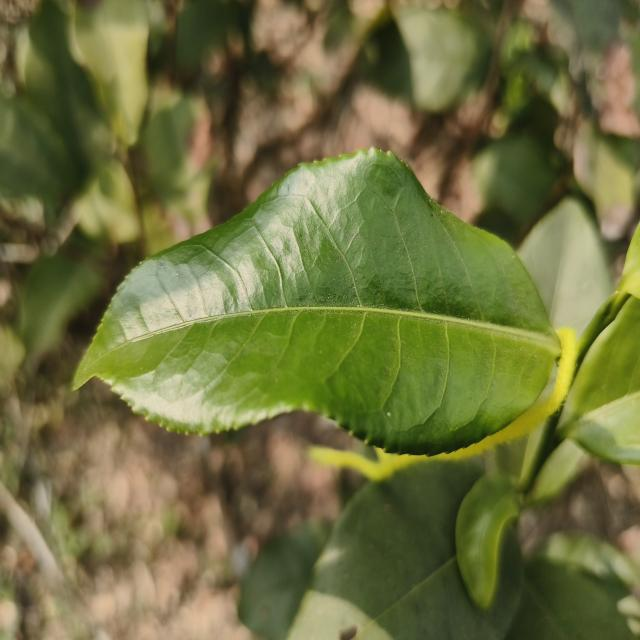Leaf: (74, 149, 560, 454), (288, 461, 522, 640), (358, 7, 491, 112), (560, 296, 640, 464), (518, 197, 612, 337), (72, 0, 149, 146), (506, 558, 633, 640), (455, 473, 521, 609), (19, 253, 101, 355), (0, 96, 73, 201)
